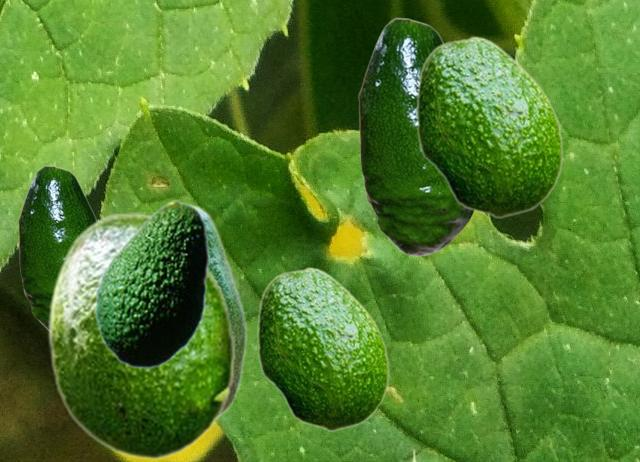avocado: (46, 212, 235, 459), (358, 17, 475, 255), (415, 35, 562, 217), (256, 266, 388, 430), (94, 200, 208, 368), (18, 165, 96, 329), (193, 204, 246, 418)
